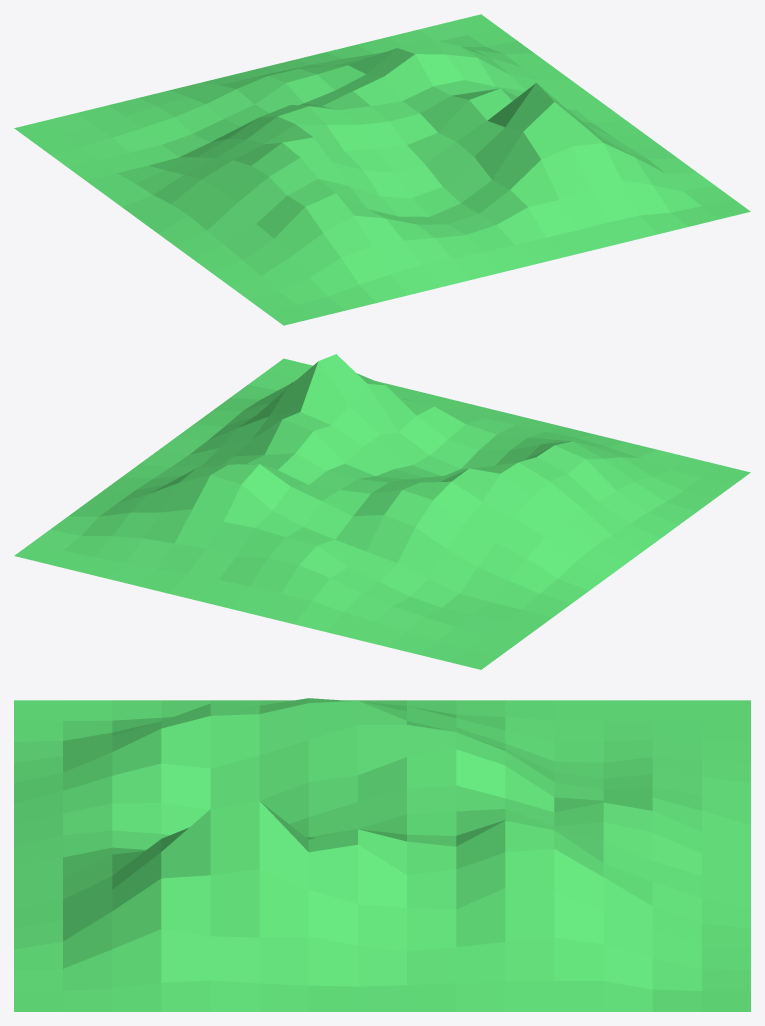
File: landscapes.fbx
3 views of the same model, one above another, from view 1: azimuth 30°, elevation 25°; view 2: azimuth 150°, elevation 25°; view 3: azimuth 270°, elevation 25° (orthographic). The views are drawn at different scales.
Visible parts, largest first — view 1: LandscapeLow; view 2: LandscapeLow; view 3: LandscapeLow.
Boxes of the visible parts, x1=… form: LandscapeLow: x1=14, y1=14, x2=750, y2=325; LandscapeLow: x1=14, y1=354, x2=750, y2=669; LandscapeLow: x1=14, y1=698, x2=750, y2=1011.
Size of the model in its own units: 3 by 0.5741 by 3.
